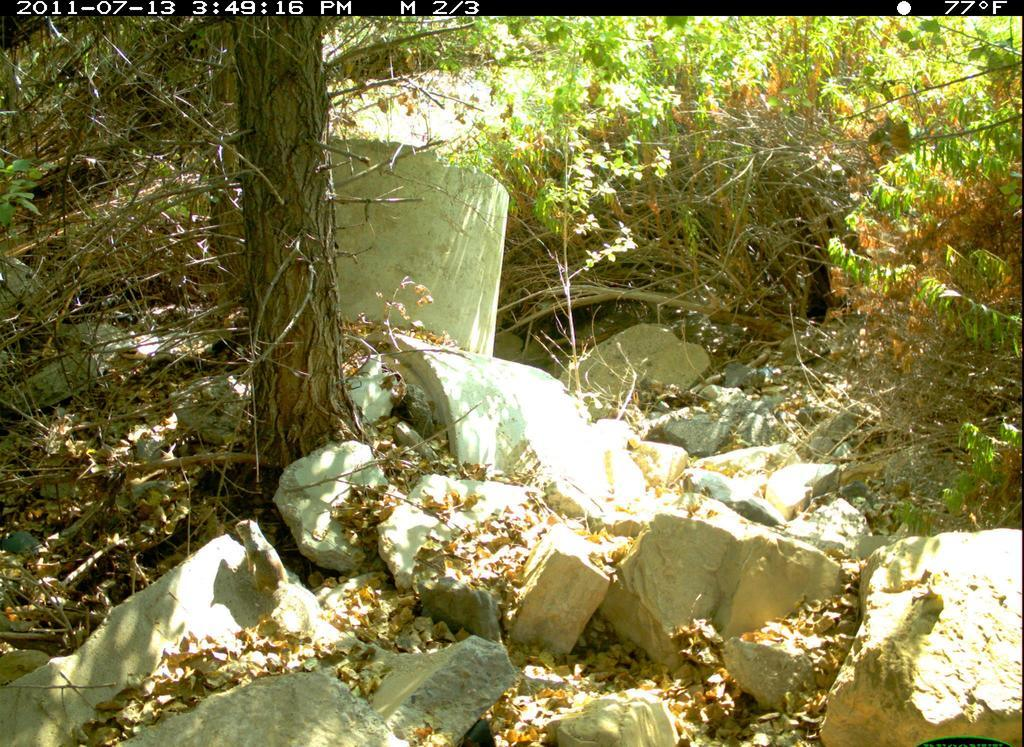squirrel: (231, 510, 332, 639)
